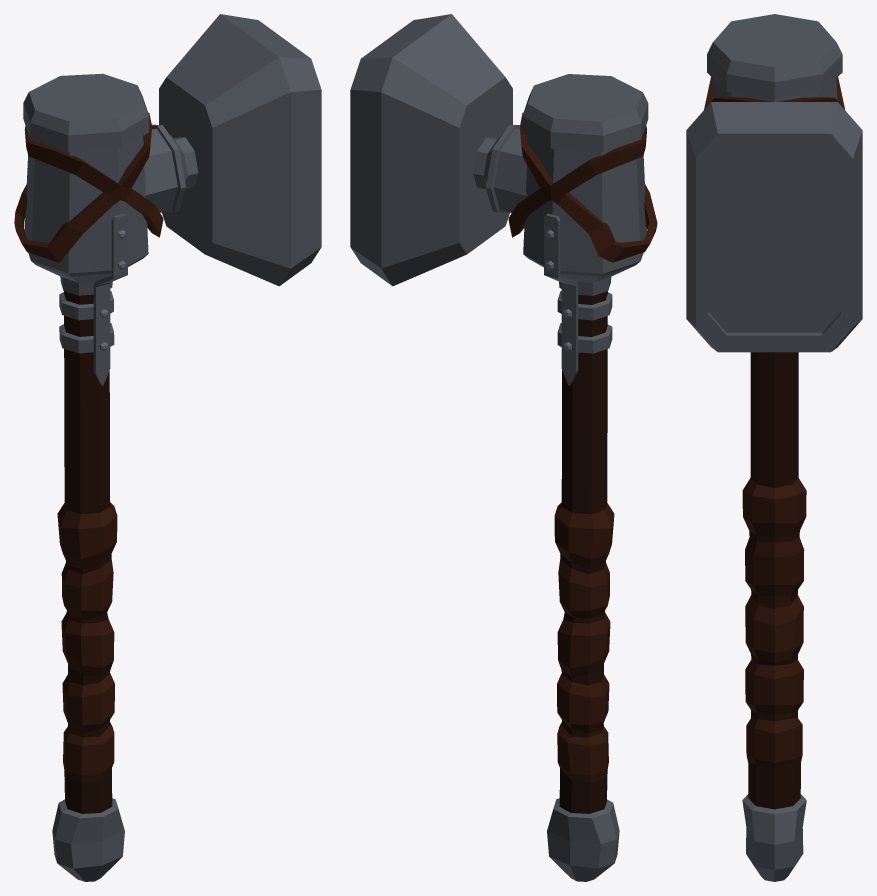
The model's file is Hammer_Small.glb.
The picture shows the model from 3 angles, left to right: view 1: azimuth 30°, elevation 25°; view 2: azimuth 150°, elevation 25°; view 3: azimuth 270°, elevation 25°; orthographic projection. The views are drawn at different scales.
Parts seen in each view (by area): view 1: Hammer_small; view 2: Hammer_small; view 3: Hammer_small.
Boxes of the visible parts, x1,y1,x2,y2 form: Hammer_small: (14,14,321,881); Hammer_small: (350,14,657,881); Hammer_small: (686,14,862,881).
Size of the model in its own units: 149 by 433 by 80.57.
